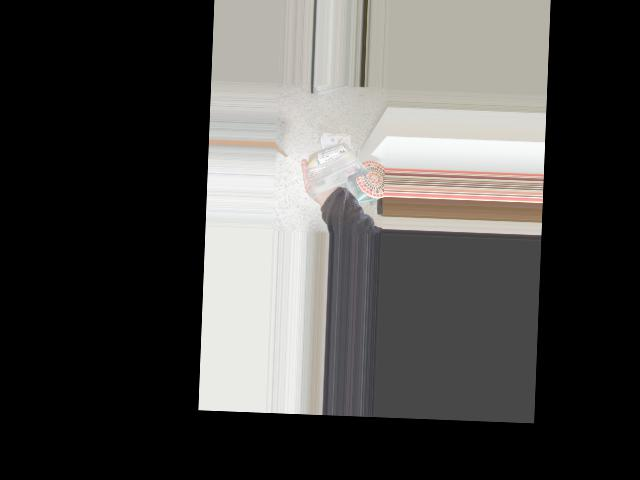cheese: (318, 126, 348, 190)
